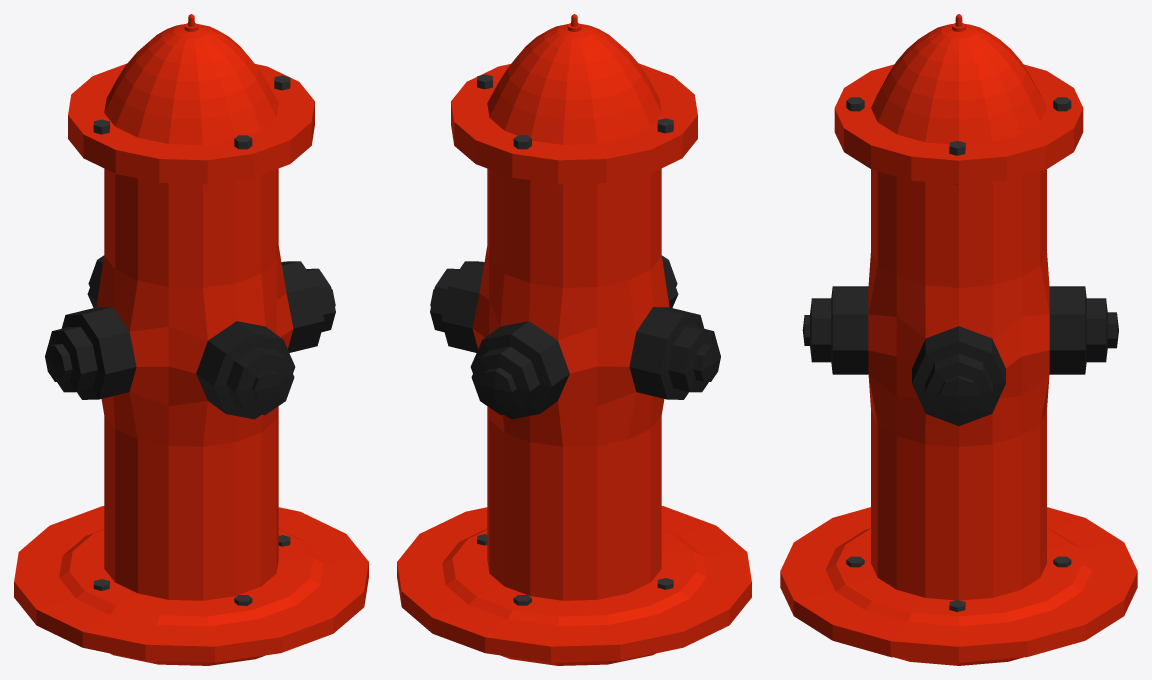
Rendered from Fire Hydrant.fbx.
3 renders of one model, left to right at view 1: azimuth 30°, elevation 25°; view 2: azimuth 150°, elevation 25°; view 3: azimuth 270°, elevation 25°, orthographic.
Parts seen in each view (by area): view 1: Cylinder; view 2: Cylinder; view 3: Cylinder.
Boxes of the visible parts, x1,y1,x2,y2 form: Cylinder: (14,14,368,665); Cylinder: (397,14,751,665); Cylinder: (780,14,1137,665).
Bounding box in the file's own units: 217 × 400 × 217.
